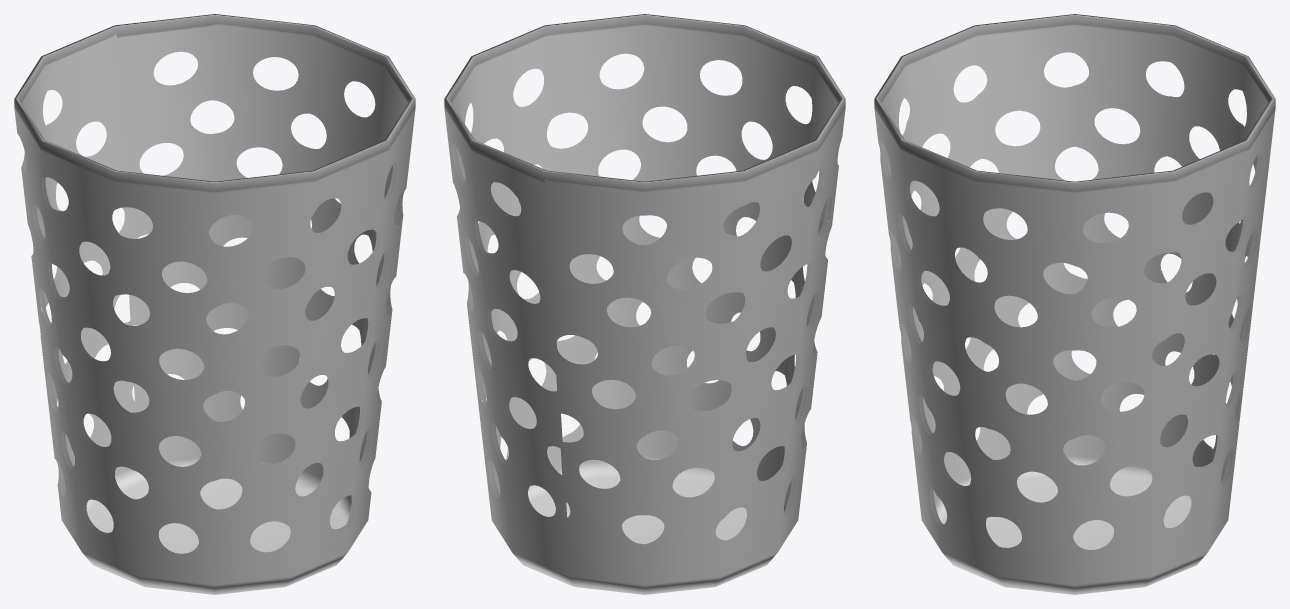
File: Pens_Cup.fbx
3 renders of one model, left to right at view 1: azimuth 30°, elevation 25°; view 2: azimuth 150°, elevation 25°; view 3: azimuth 270°, elevation 25°, orthographic.
Visible parts, largest first — view 1: PensCup; view 2: PensCup; view 3: PensCup.
Boxes of the visible parts, x1,y1,x2,y2 form: PensCup: (14,14,415,594); PensCup: (444,14,845,594); PensCup: (874,14,1275,594).
Bounding box in the file's own units: 7.34 × 8.82 × 7.34.
